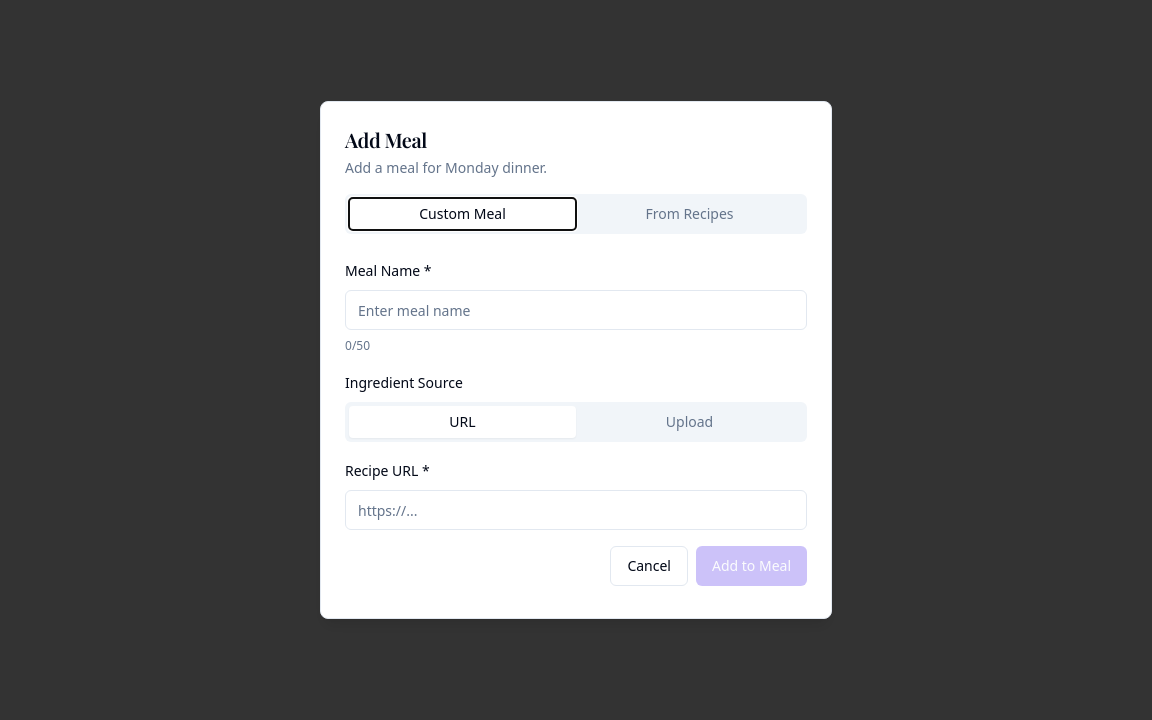
Test: AddMealDialog › switches back to Custom Meal tab
The width and height of the screenshot is (1152, 720).
Click the button "From Recipes". click: (690, 214)
box: [576,198,803,230]
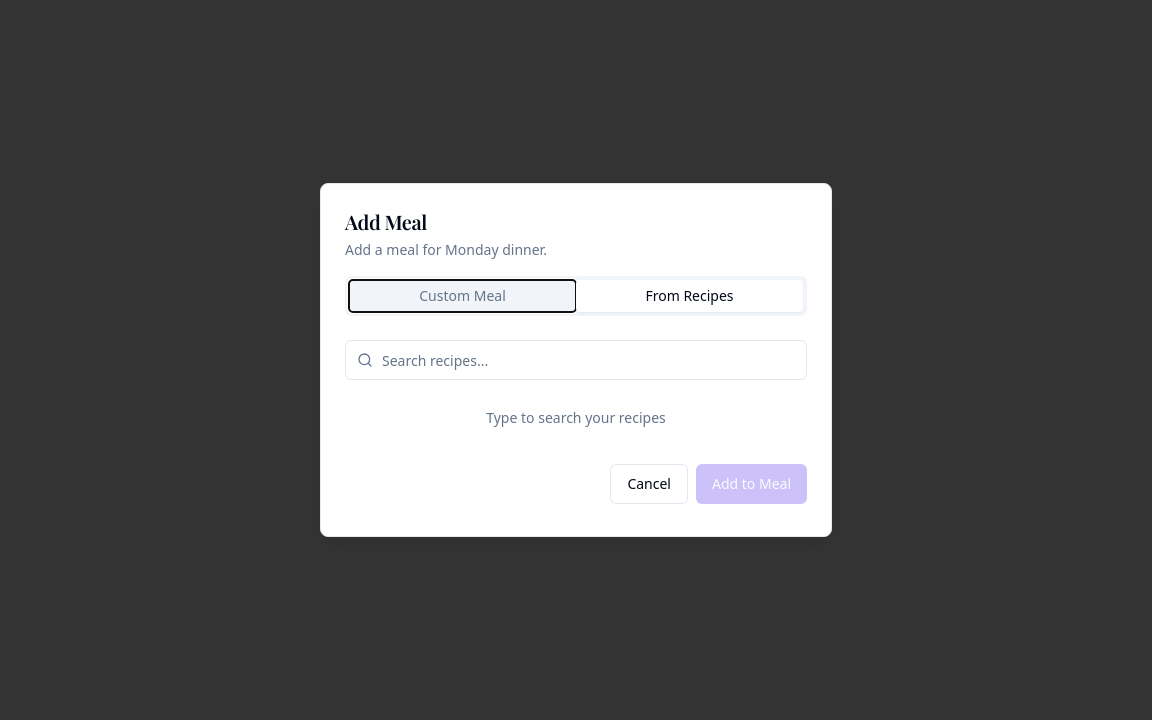
Expected: the field with placeholder "Search recipes..." is shown, [345,340,807,380]
Click the button "Custom Meal". click: (462, 296)
box: [349,280,576,312]
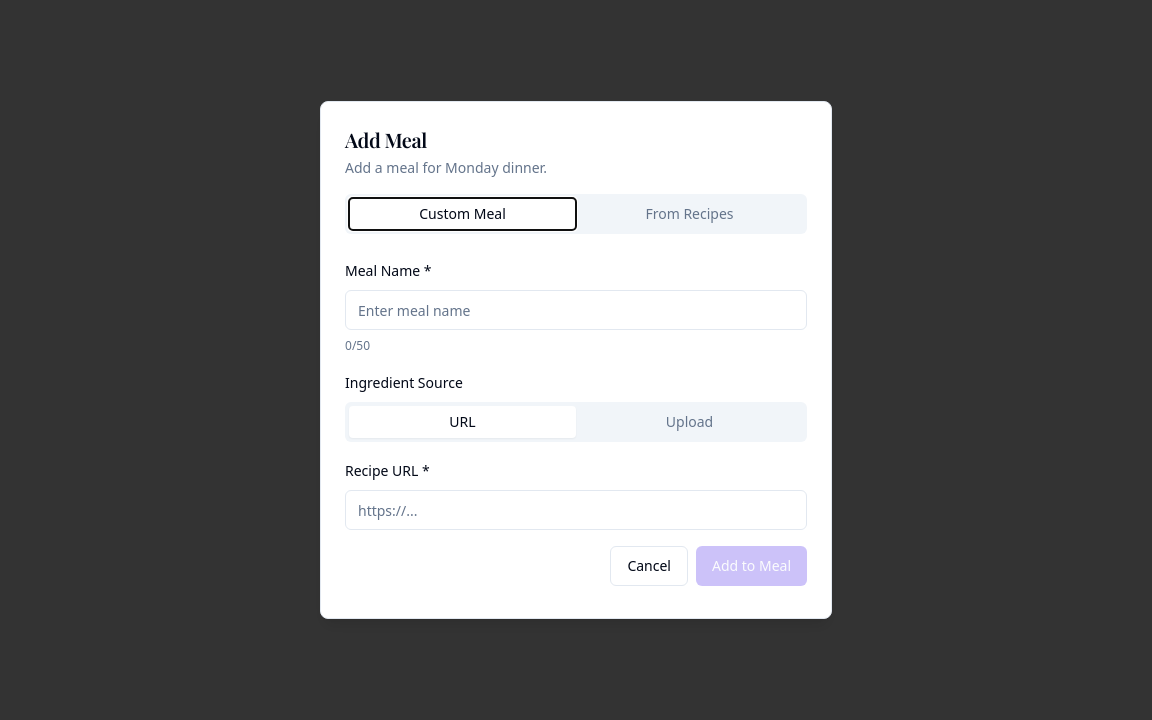
Expected: the field labelled "Meal Name *" is shown, [345,290,807,330]
